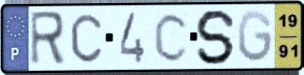4: (119, 11, 146, 65)
C: (153, 11, 191, 64), (69, 11, 104, 64)
G: (236, 8, 275, 65)
R: (28, 9, 67, 68)
S: (194, 8, 239, 66)
